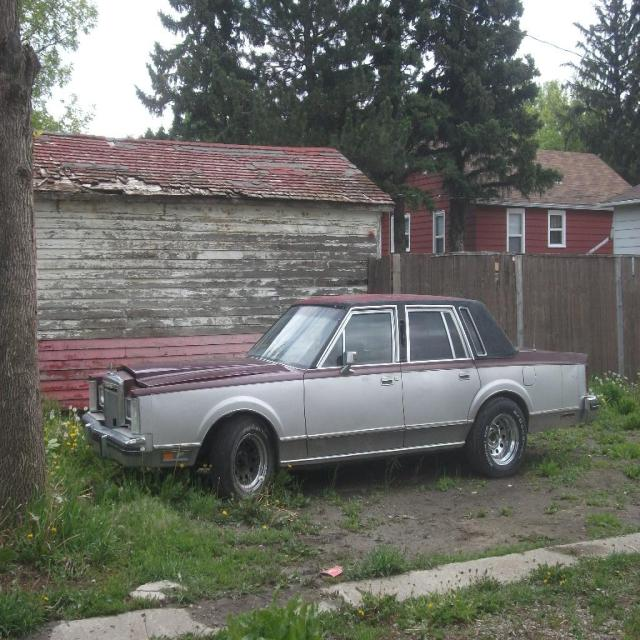car: (68, 290, 573, 499)
